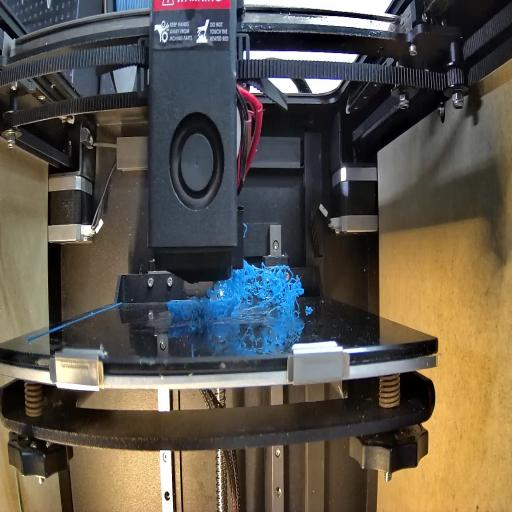spaghetti: (212, 267, 302, 319), (177, 285, 207, 328)
